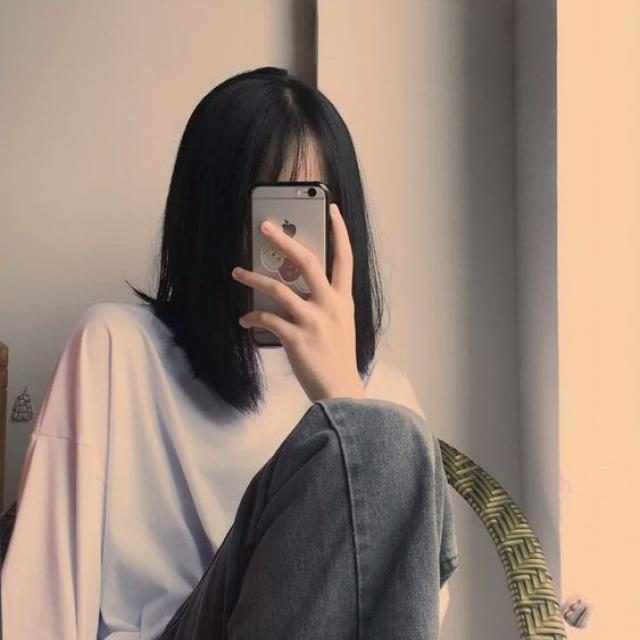phone: (247, 180, 329, 348)
